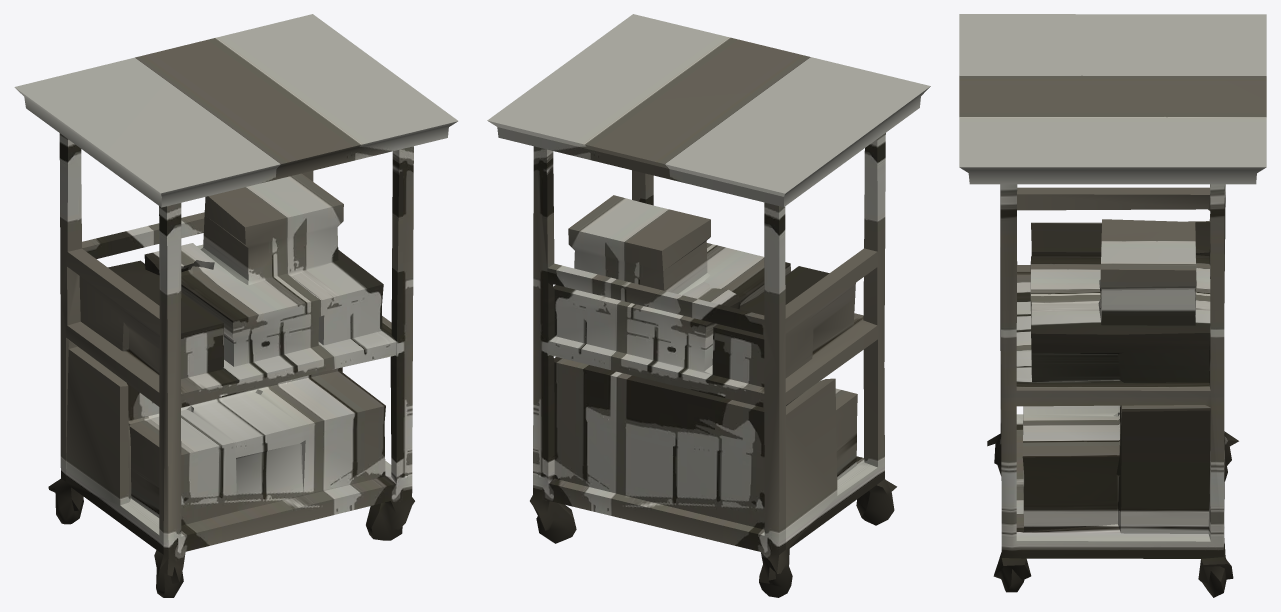
The picture shows the model from 3 angles, left to right: view 1: azimuth 30°, elevation 25°; view 2: azimuth 150°, elevation 25°; view 3: azimuth 270°, elevation 25°; orthographic projection. The views are drawn at different scales.
Visible parts, largest first — view 1: Decor_kiosk_cart_c; view 2: Decor_kiosk_cart_c; view 3: Decor_kiosk_cart_c.
Boxes of the visible parts, x1,y1,x2,y2 form: Decor_kiosk_cart_c: [14, 14, 458, 597]; Decor_kiosk_cart_c: [487, 14, 930, 597]; Decor_kiosk_cart_c: [959, 14, 1266, 597].
Bounding box in the file's own units: 1.67 × 2.29 × 1.41.
1 material, 1 textured.
